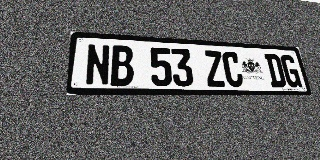3: (171, 48, 194, 87)
5: (150, 47, 173, 86)
B: (111, 45, 134, 86)
C: (221, 51, 244, 87)
D: (264, 54, 287, 87)
G: (280, 54, 302, 88)
N: (85, 44, 110, 86)
Z: (203, 50, 226, 87)
